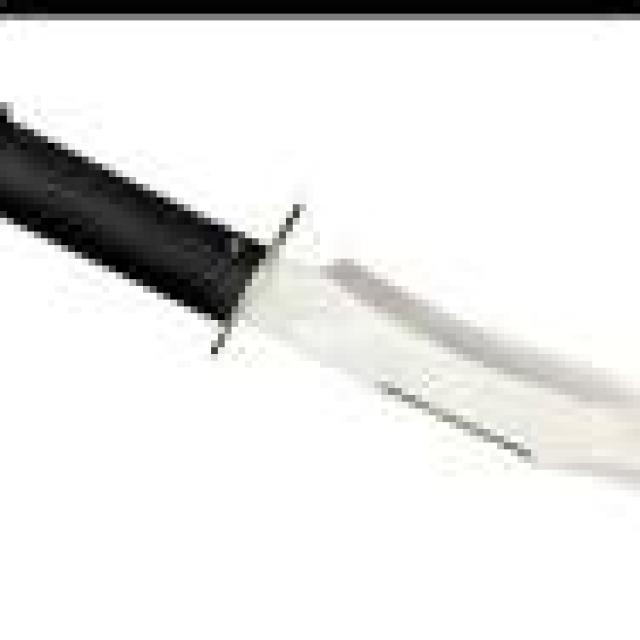Gun: (0, 116, 640, 538)
